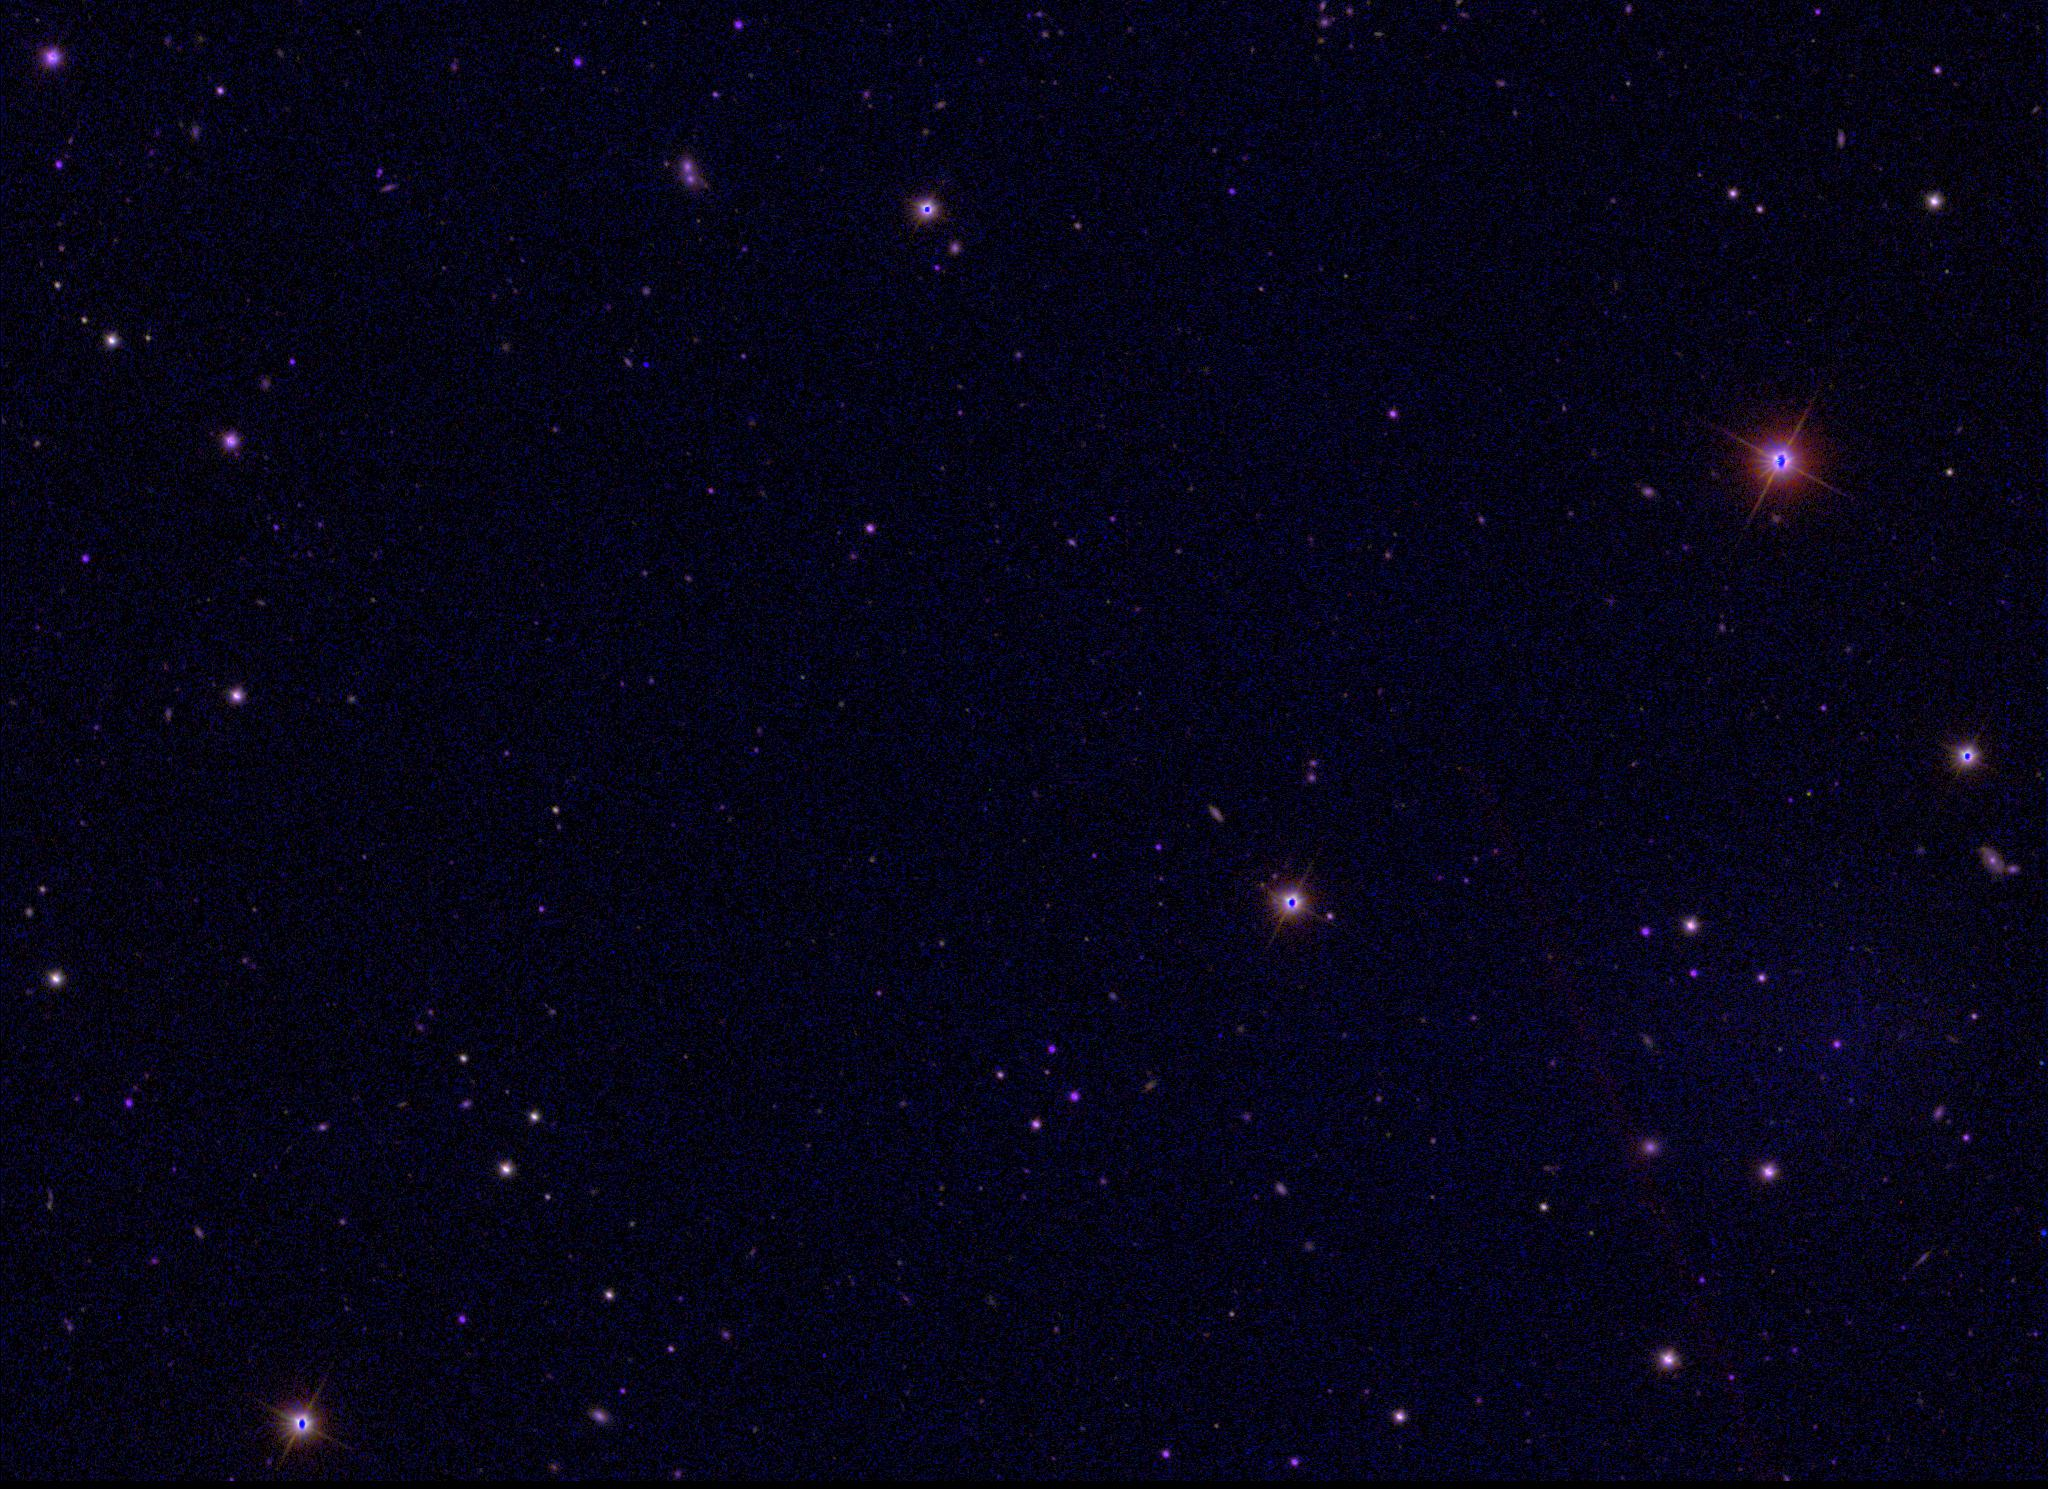L: (638, 358, 652, 372)
